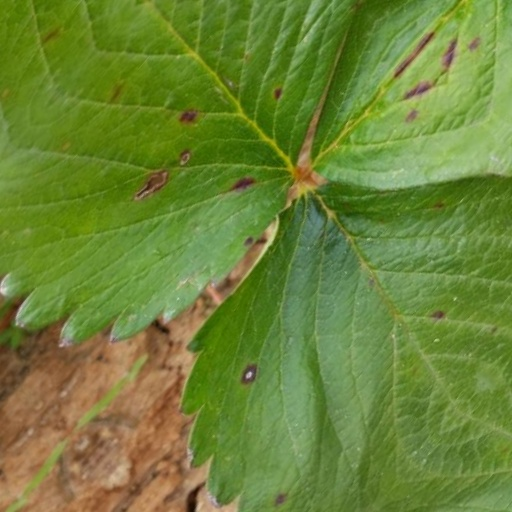Leaf Spot: (244, 0, 511, 472), (161, 0, 419, 153)
